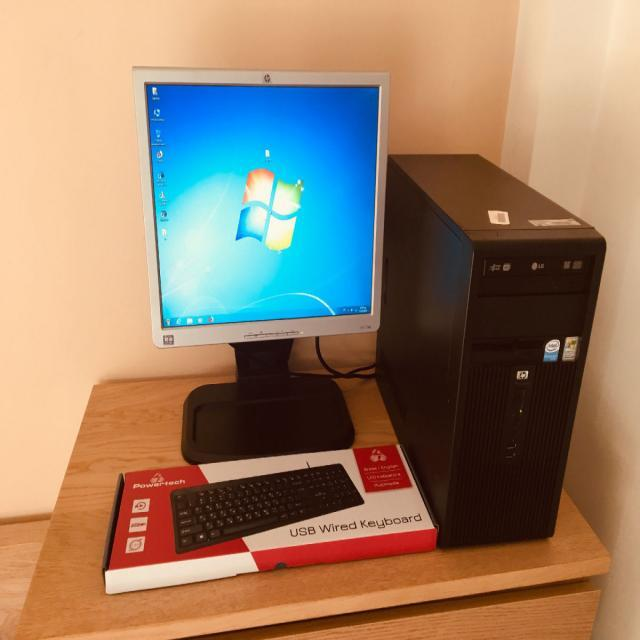Desktop-PC: (389, 138, 591, 556)
Flat-Panel-Monitor: (120, 48, 390, 342)
